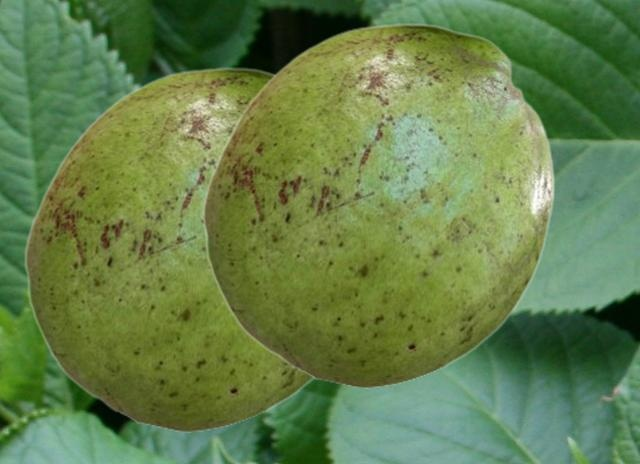guava: (201, 23, 554, 387), (23, 67, 315, 431)
